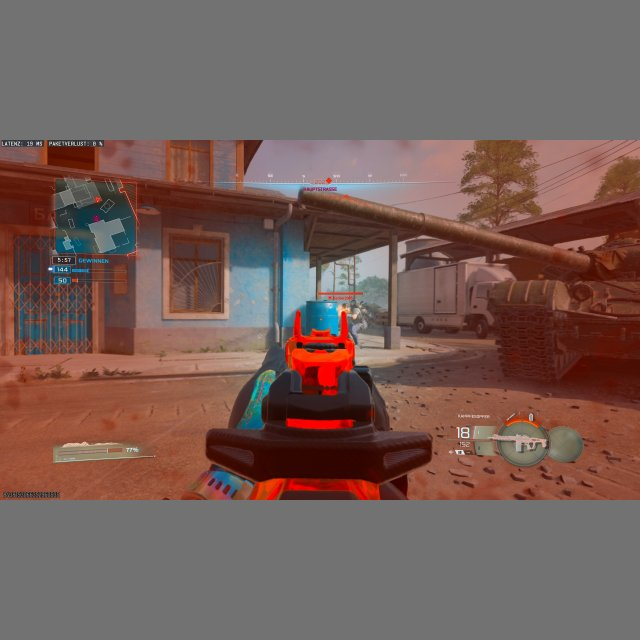player: (354, 302, 372, 333)
